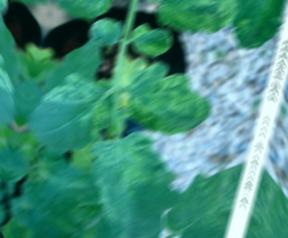Tomato leaf mosaic virus: (70, 124, 192, 238), (20, 65, 121, 166), (115, 55, 220, 148), (216, 0, 284, 57), (154, 0, 241, 44), (49, 0, 134, 34), (127, 21, 181, 65), (86, 16, 128, 54)
